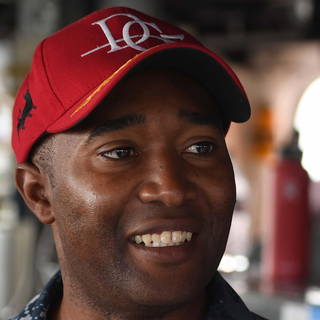eye: (93, 141, 142, 165), (176, 135, 221, 160)
